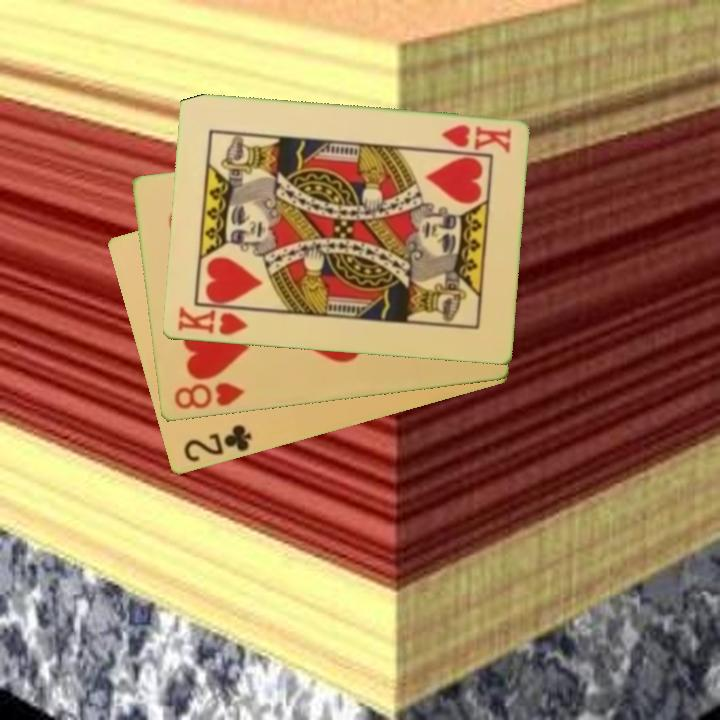2c: (179, 421, 255, 466)
8h: (170, 379, 248, 413)
Kh: (174, 303, 257, 339), (437, 121, 514, 156)
